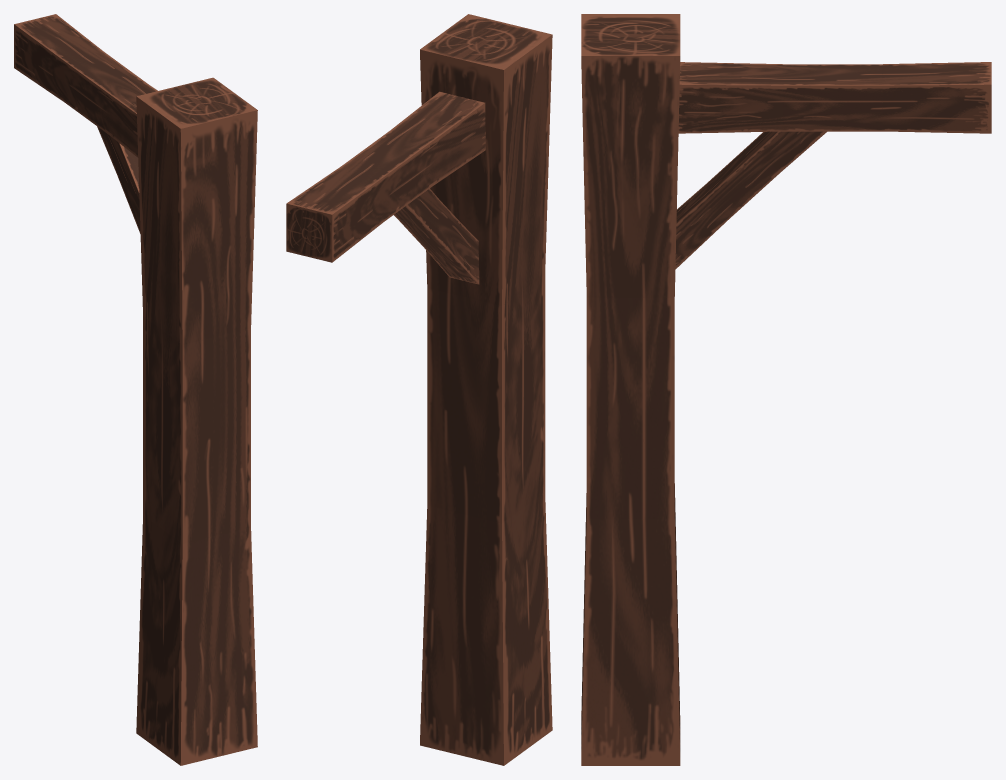
The model's file is Wood_pillar_1.fbx.
3 views of the same model, side by side, from view 1: azimuth 30°, elevation 25°; view 2: azimuth 150°, elevation 25°; view 3: azimuth 270°, elevation 25° (orthographic). The views are drawn at different scales.
Parts seen in each view (by area): view 1: Wood_pillar_1; view 2: Wood_pillar_1; view 3: Wood_pillar_1.
Part boxes in pixels (x1=…): Wood_pillar_1: x1=14, y1=14, x2=257, y2=765; Wood_pillar_1: x1=286, y1=14, x2=552, y2=765; Wood_pillar_1: x1=581, y1=14, x2=991, y2=765.
Bounding box in the file's own units: 0.3038 × 2.4 × 1.26.
